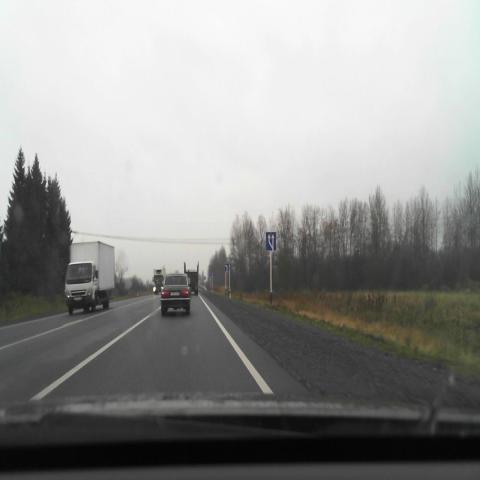5_15_3: (266, 231, 276, 251)
